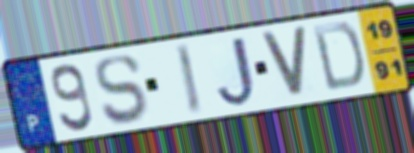9: (50, 62, 95, 133)
D: (309, 20, 366, 94)
I: (172, 41, 205, 118)
J: (215, 34, 259, 110)
S: (92, 52, 149, 129)
V: (257, 25, 309, 100)
